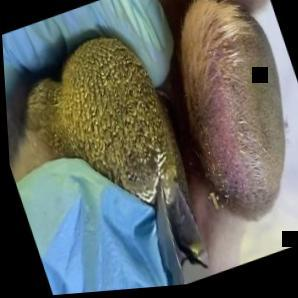keratosis: (2, 22, 191, 251)
